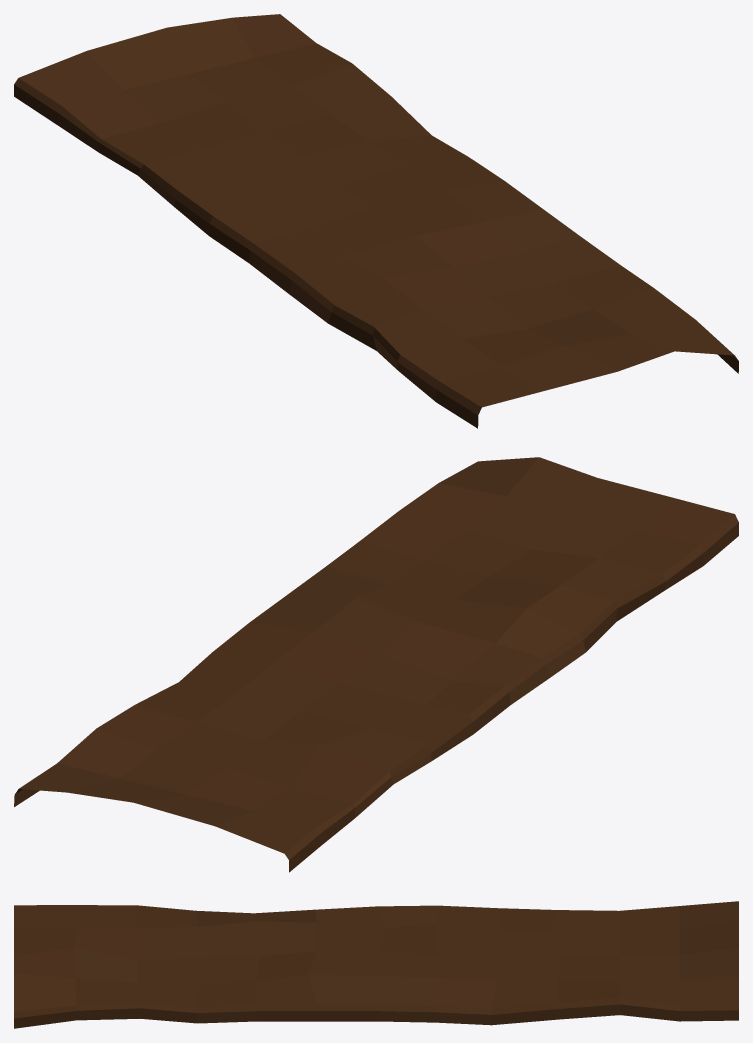
Rendered from RoadDirty_1.fbx.
The picture shows the model from 3 angles, top to bottom: view 1: azimuth 30°, elevation 25°; view 2: azimuth 150°, elevation 25°; view 3: azimuth 270°, elevation 25°; orthographic projection. The views are drawn at different scales.
Visible parts, largest first — view 1: RoadDirty_1; view 2: RoadDirty_1; view 3: RoadDirty_1.
Boxes of the visible parts, x1=… form: RoadDirty_1: x1=14, y1=14, x2=738, y2=428; RoadDirty_1: x1=14, y1=457, x2=738, y2=872; RoadDirty_1: x1=14, y1=901, x2=738, y2=1028.
Bounding box in the file's own units: 314 × 47.94 × 907.
